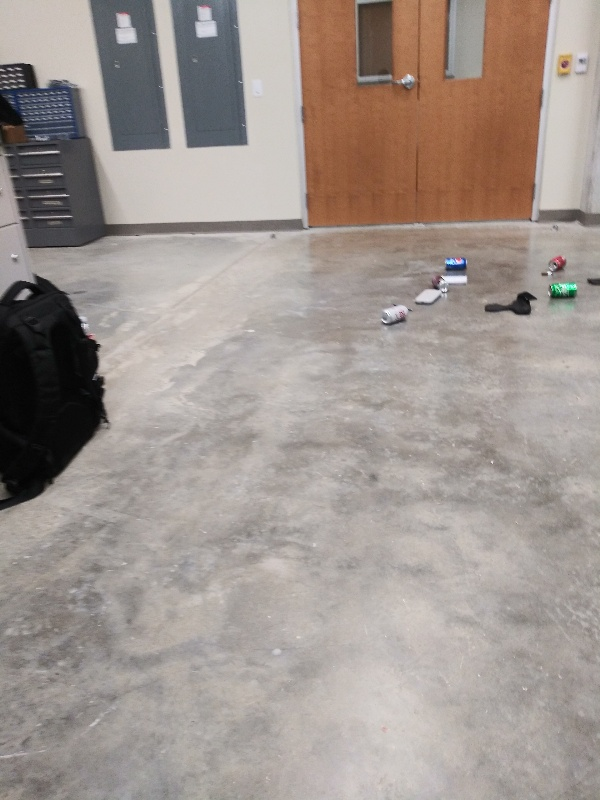can: (378, 304, 410, 326), (546, 282, 579, 298), (545, 254, 569, 273), (428, 274, 449, 294), (444, 256, 469, 271)
